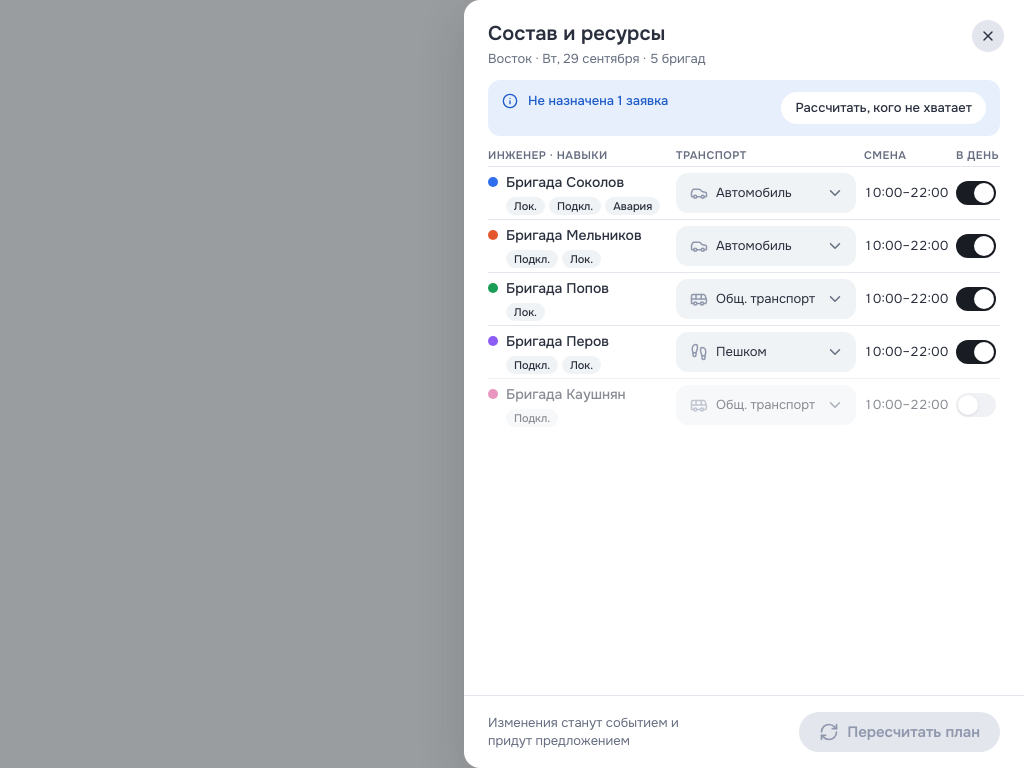
Test: DS-09 «Состав и ресурсы» › смена транспорта после публикации — transport_changed; ошибка бэка — в дровере
Select "Автомобиль" in the dropdown named "Транспорт: Бригада Попов" at (780, 299), box [716,279,844,319]
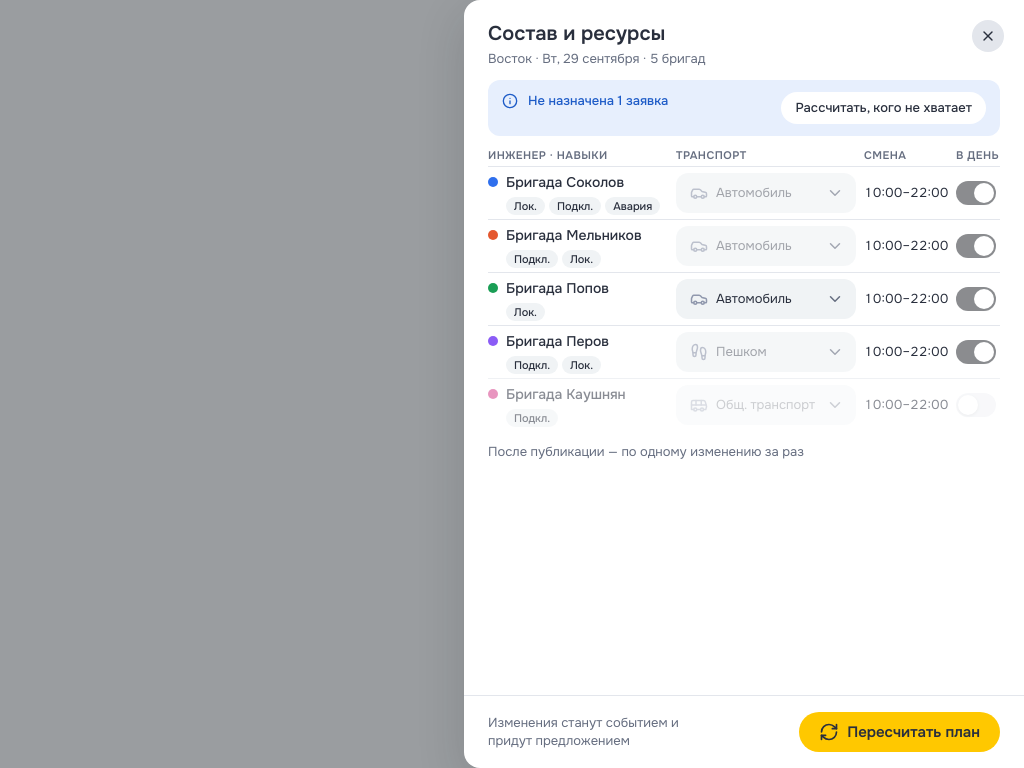
Click the button "Пересчитать план".
click(900, 732)  # box [799,712,1000,752]
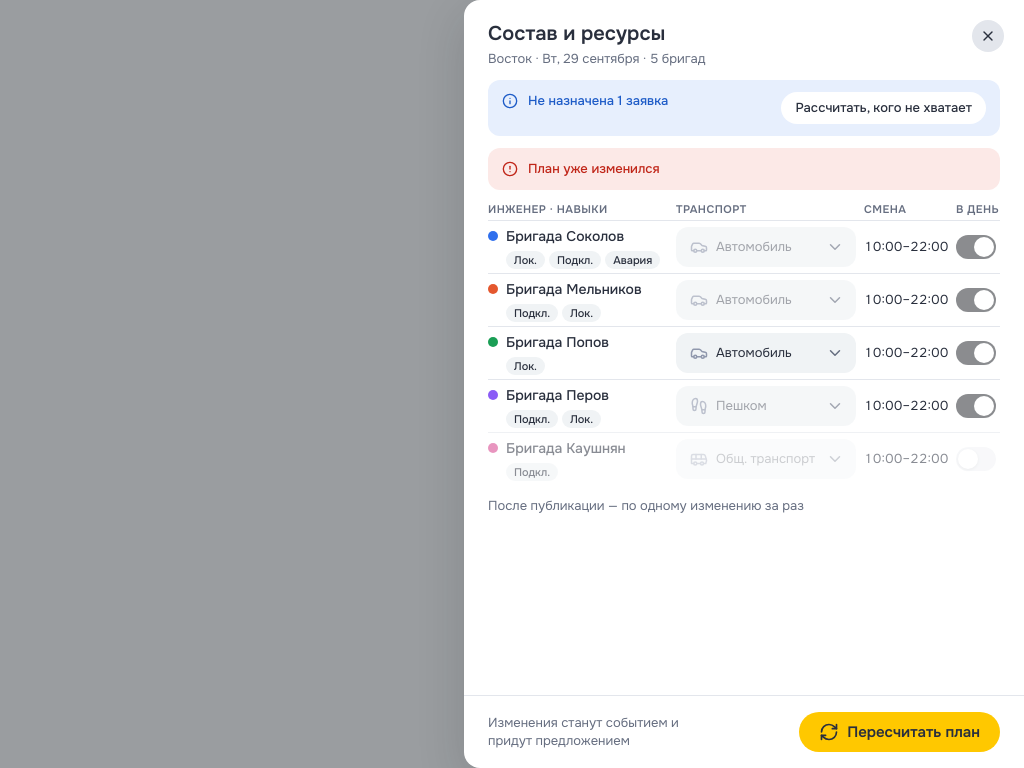
Result: the text "План уже изменился" is shown at [528,160,660,177]
